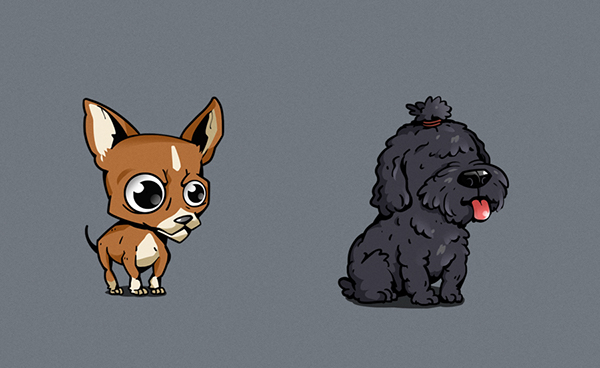dog: (314, 92, 535, 324), (84, 100, 214, 290)
